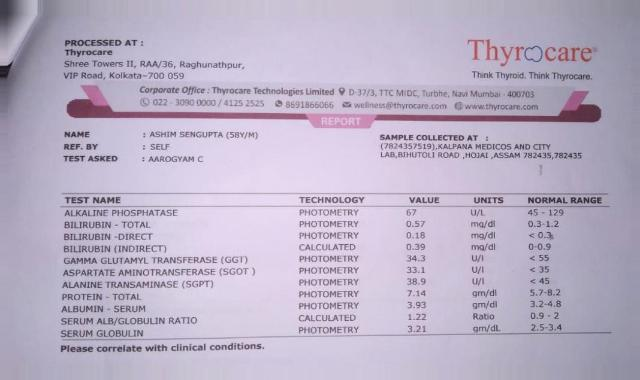Name: (144, 124, 261, 141)
Ref_By: (147, 141, 178, 153)
Reference_Range: (524, 207, 584, 334)
Technology: (294, 206, 366, 339)
Test_Asked: (147, 154, 210, 166)
Test_Name: (58, 206, 261, 341)
Unit: (466, 206, 511, 335)
Value: (401, 206, 437, 335)
